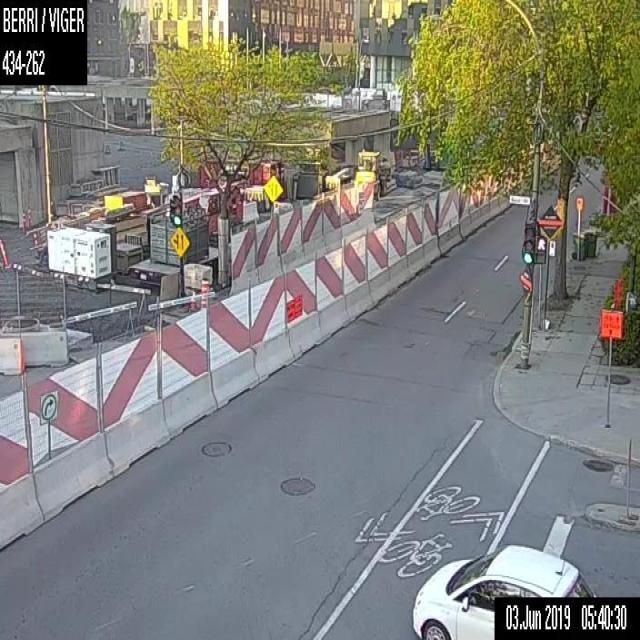construction: (600, 302, 624, 428), (38, 388, 58, 460), (199, 276, 210, 310)
vehicle: (411, 541, 598, 639)
